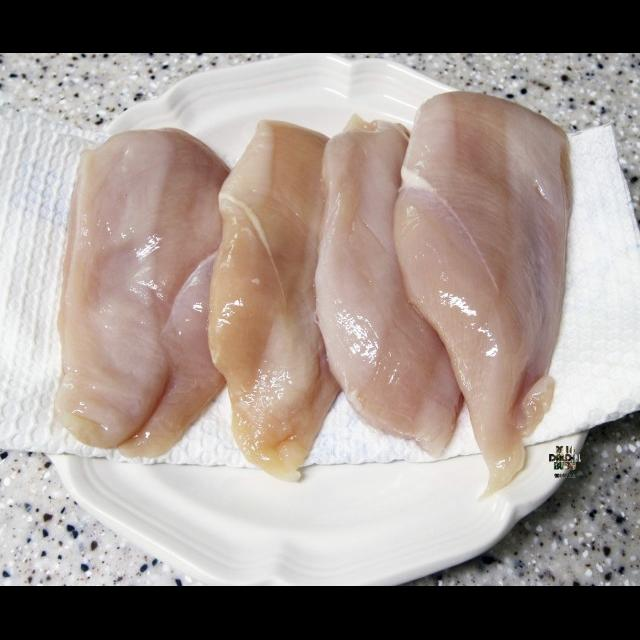chicken: (392, 89, 571, 499), (54, 127, 235, 457), (312, 112, 465, 459), (208, 118, 345, 483)
